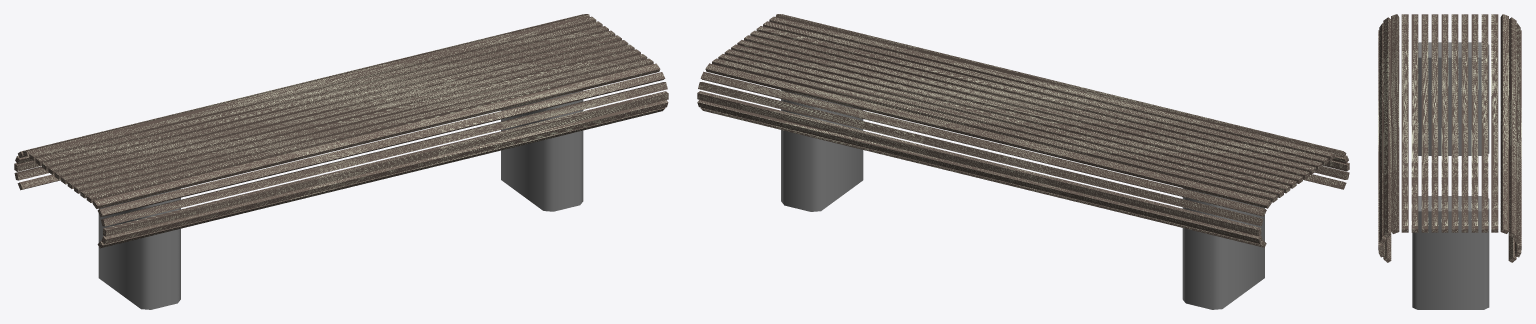
3 renders of one model, left to right at view 1: azimuth 30°, elevation 25°; view 2: azimuth 150°, elevation 25°; view 3: azimuth 270°, elevation 25°, orthographic. The views are drawn at different scales.
Visible parts, largest first — view 1: mesh1_mesh1-geometry, mesh2_mesh2-geometry; view 2: mesh1_mesh1-geometry, mesh2_mesh2-geometry; view 3: mesh1_mesh1-geometry, mesh2_mesh2-geometry.
Boxes of the visible parts, <box> form: mesh1_mesh1-geometry: <box>14,14,668,248</box>; mesh2_mesh2-geometry: <box>98,90,583,309</box>; mesh1_mesh1-geometry: <box>697,14,1349,247</box>; mesh2_mesh2-geometry: <box>781,90,1264,309</box>; mesh1_mesh1-geometry: <box>1378,14,1521,262</box>; mesh2_mesh2-geometry: <box>1412,42,1489,309</box>.
Bounding box in the file's own units: 0.9407 × 0.2117 × 0.265.
